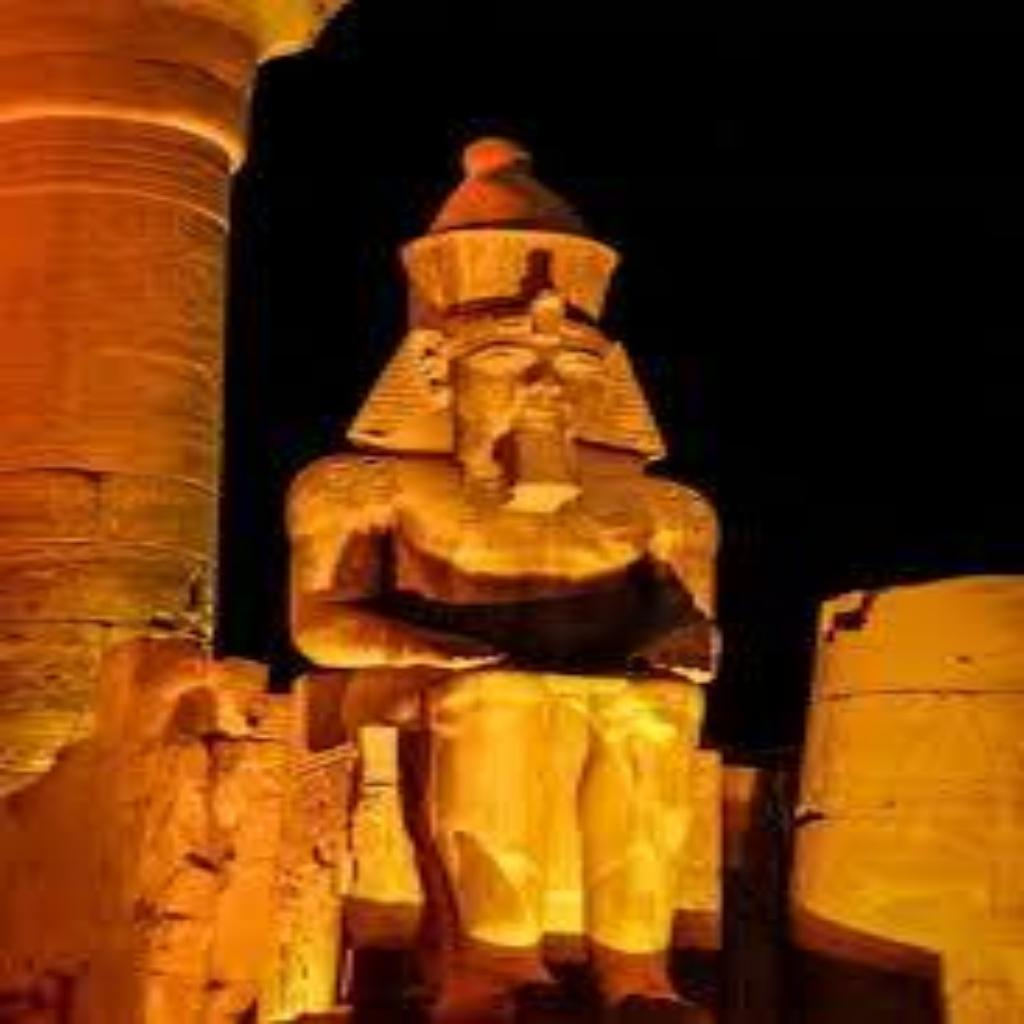Statue of King Ramses II Luxor Temple: (274, 130, 733, 1020)
